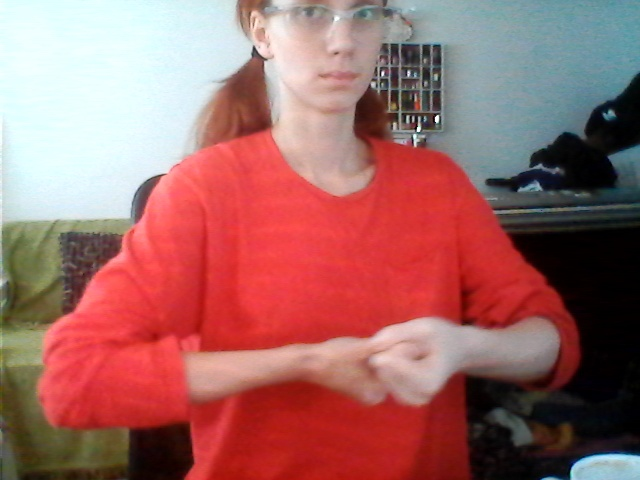hasic: (269, 294, 495, 426)
